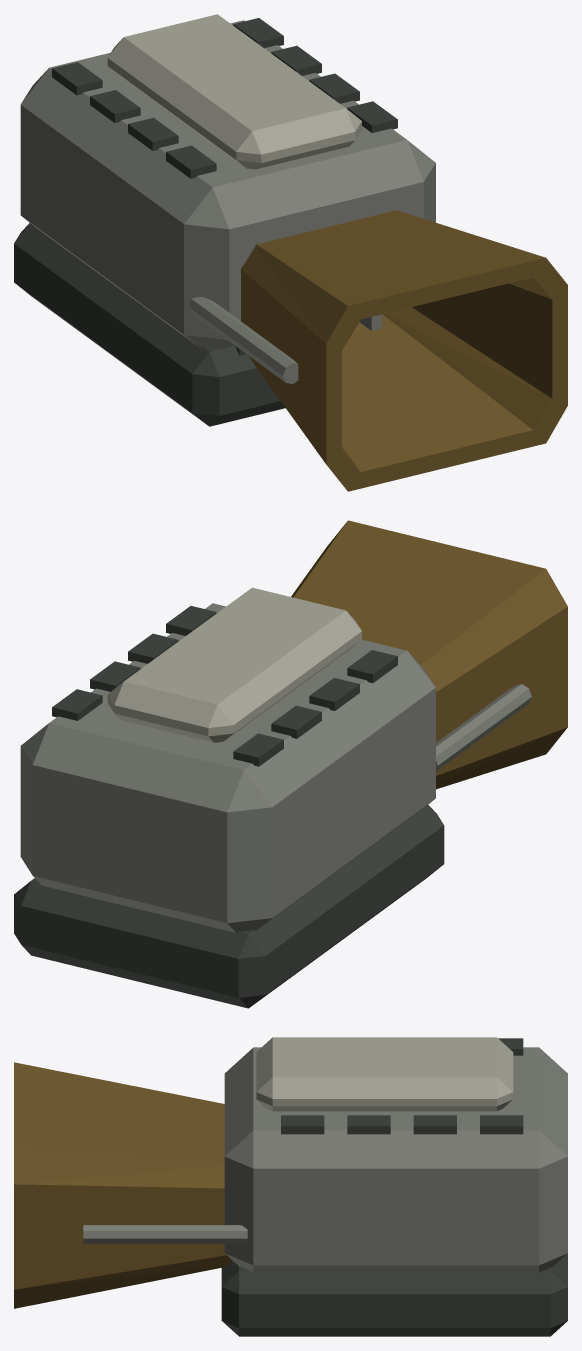
The model's file is small_thruster.obj.
The picture shows the model from 3 angles, top to bottom: view 1: azimuth 30°, elevation 25°; view 2: azimuth 150°, elevation 25°; view 3: azimuth 270°, elevation 25°; orthographic projection. The views are drawn at different scales.
Visible parts, largest first — view 1: small_thruster; view 2: small_thruster; view 3: small_thruster.
Boxes of the visible parts, bbox=[...] form: small_thruster: bbox=[14, 14, 567, 491]; small_thruster: bbox=[14, 520, 567, 1008]; small_thruster: bbox=[14, 1037, 567, 1336].
Bounding box in the file's own units: 0.88 × 0.89 × 1.92.
